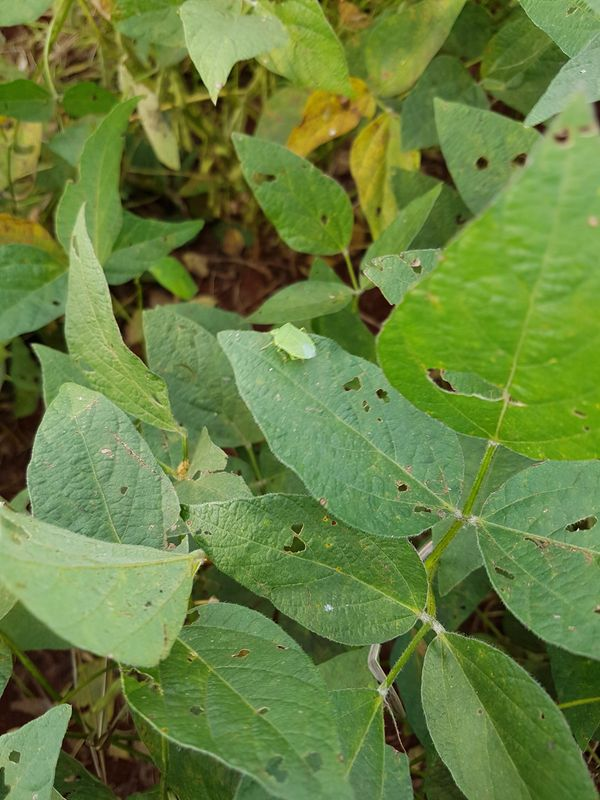Nezara_viridula_adulto: (249, 311, 331, 376)
